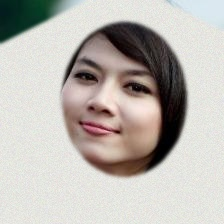Mukena: (13, 25, 224, 224)
